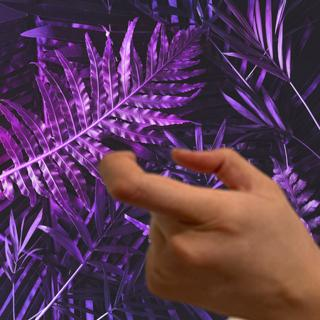HATE: (90, 145, 320, 320)
